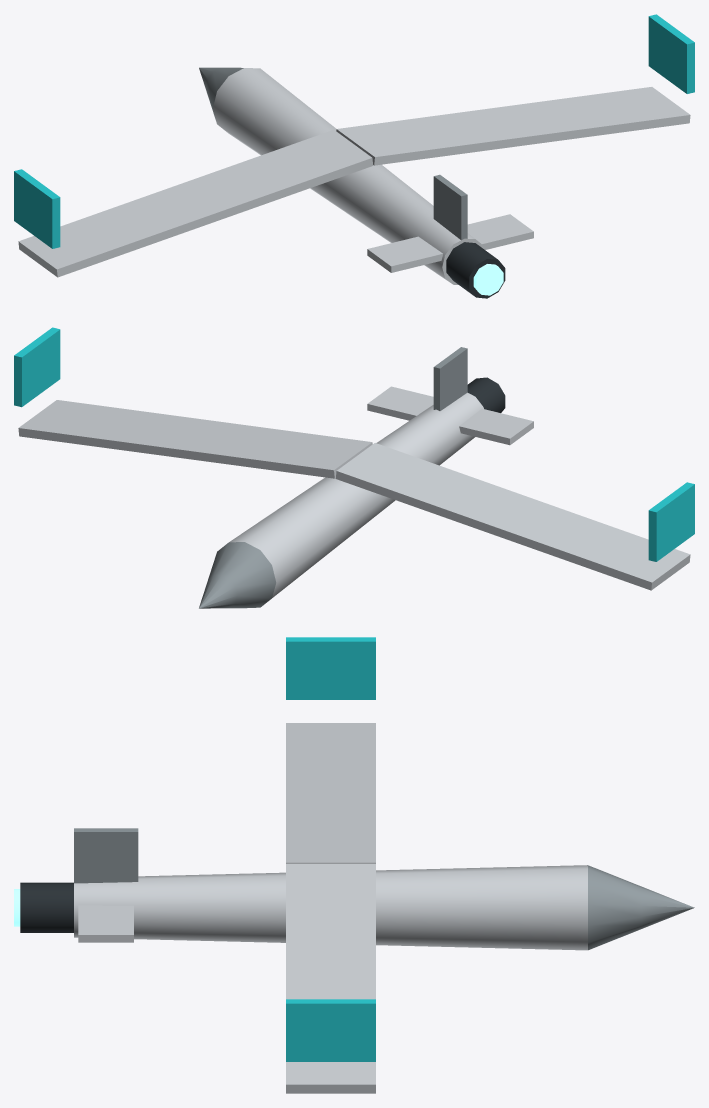
Rendered from drone_glider.glb.
The picture shows the model from 3 angles, top to bottom: view 1: azimuth 30°, elevation 25°; view 2: azimuth 150°, elevation 25°; view 3: azimuth 270°, elevation 25°; orthographic projection. The views are drawn at different scales.
Parts seen in each view (by area): view 1: WingL, WingR, Body, Tail, TipL, TipR, Fin, Rocket, Glow, Nose; view 2: WingL, WingR, Body, Nose, Tail, TipL, TipR, Fin, Rocket; view 3: Body, WingR, WingL, TipL, TipR, Nose, Fin, Rocket, Tail.
Part boxes in pixels (<box>): WingL: <box>18,130,373,277</box>; WingR: <box>336,87,690,165</box>; Body: <box>213,68,484,284</box>; Tail: <box>367,214,533,272</box>; TipL: <box>14,169,60,248</box>; TipR: <box>648,14,694,93</box>; Fin: <box>433,174,467,240</box>; Rocket: <box>446,242,505,298</box>; Glow: <box>473,264,503,295</box>; Nose: <box>199,67,243,119</box>; WingL: <box>335,443,690,590</box>; WingR: <box>18,400,372,478</box>; Body: <box>229,392,483,600</box>; Nose: <box>199,542,276,608</box>; Tail: <box>367,386,533,445</box>; TipL: <box>648,482,694,561</box>; TipR: <box>14,327,60,407</box>; Fin: <box>433,347,467,410</box>; Rocket: <box>467,377,505,412</box>; Body: <box>74,865,587,950</box>; WingR: <box>286,864,375,1093</box>; WingL: <box>286,723,375,863</box>; TipL: <box>286,637,375,699</box>; TipR: <box>286,999,375,1061</box>; Nose: <box>588,865,694,950</box>; Fin: <box>74,828,138,883</box>; Rocket: <box>20,882,73,932</box>; Tail: <box>78,905,133,942</box>.
Bounding box in the file's own units: 4.05 × 0.65 × 3.18.
